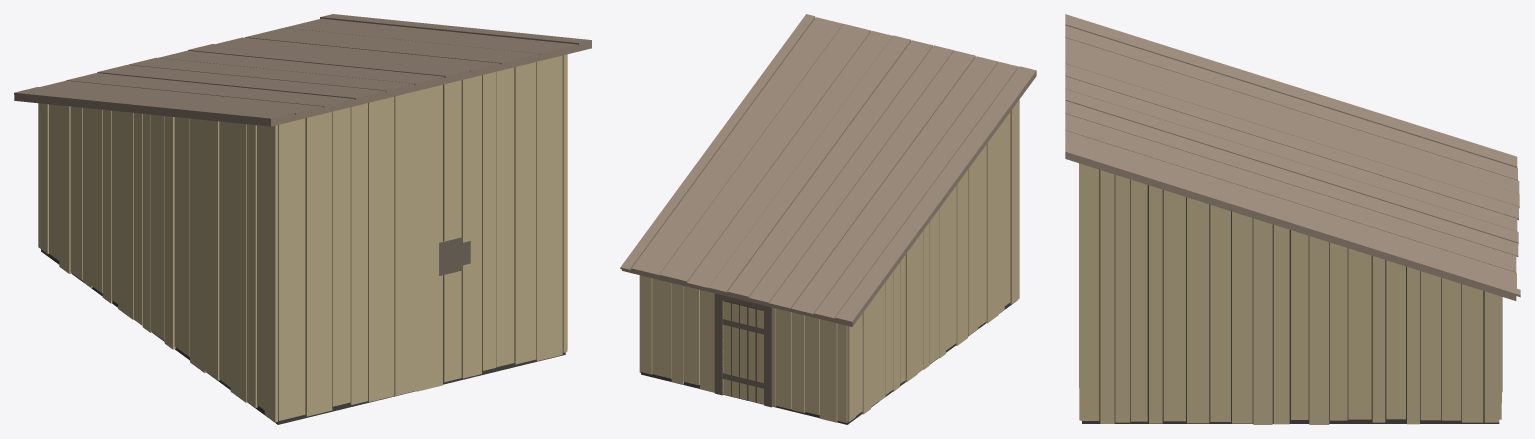
The model's file is recon_1835_west_015__inferred_1835.glb.
3 renders of one model, left to right at view 1: azimuth 30°, elevation 25°; view 2: azimuth 150°, elevation 25°; view 3: azimuth 270°, elevation 25°, orthographic. The views are drawn at different scales.
Visible parts, largest first — view 1: recon_1835_west_015__inferred_1835; view 2: recon_1835_west_015__inferred_1835; view 3: recon_1835_west_015__inferred_1835.
Part boxes in pixels (left/top/right/bottom): recon_1835_west_015__inferred_1835: left=14, top=14, right=591, bottom=424; recon_1835_west_015__inferred_1835: left=620, top=14, right=1036, bottom=424; recon_1835_west_015__inferred_1835: left=1065, top=14, right=1520, bottom=424.
Bounding box in the file's own units: 4.76 × 4.5 × 6.66.
